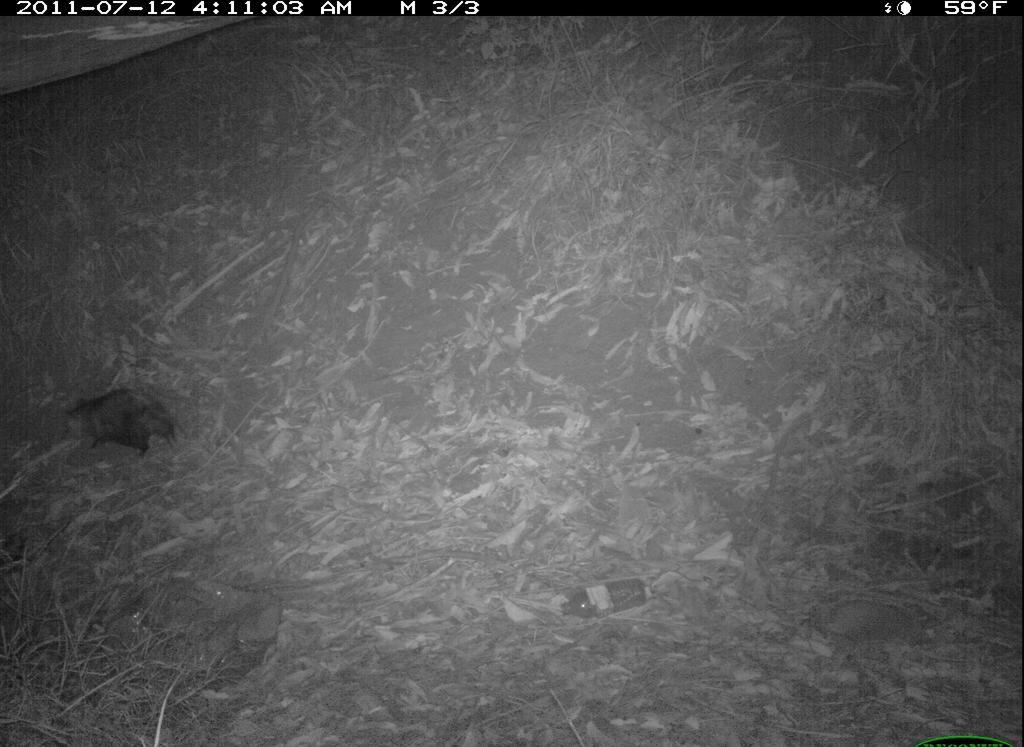opossum: (58, 382, 196, 468)
